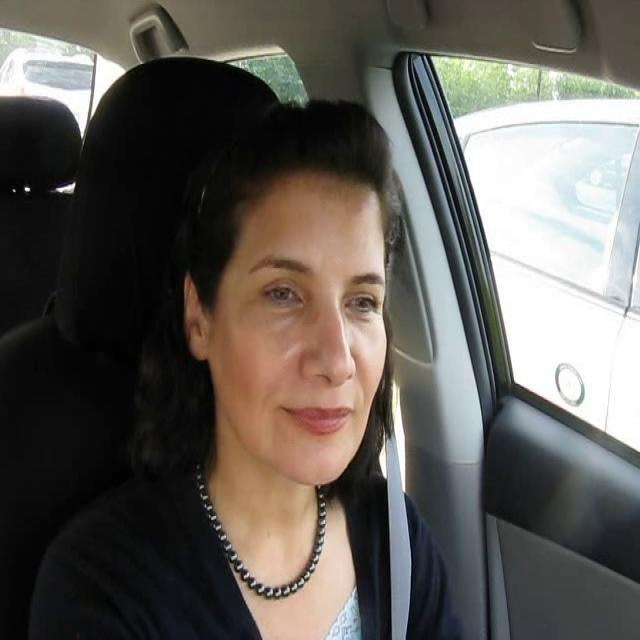close: (278, 402, 356, 434)
